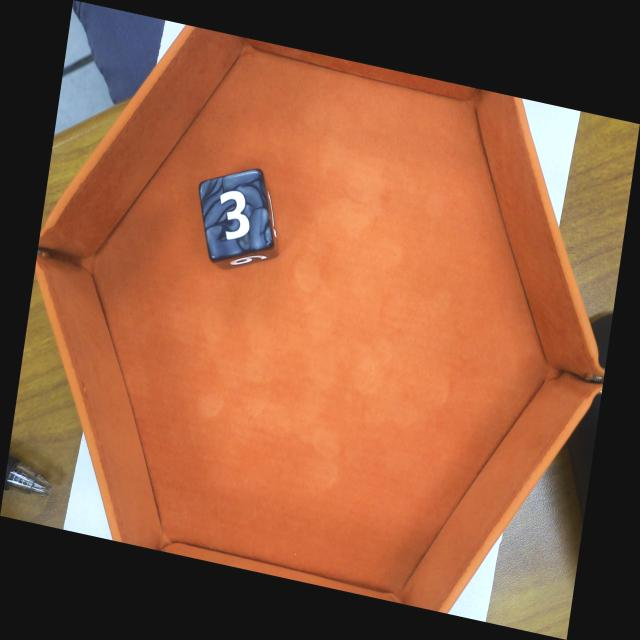dice: (198, 168, 274, 264)
